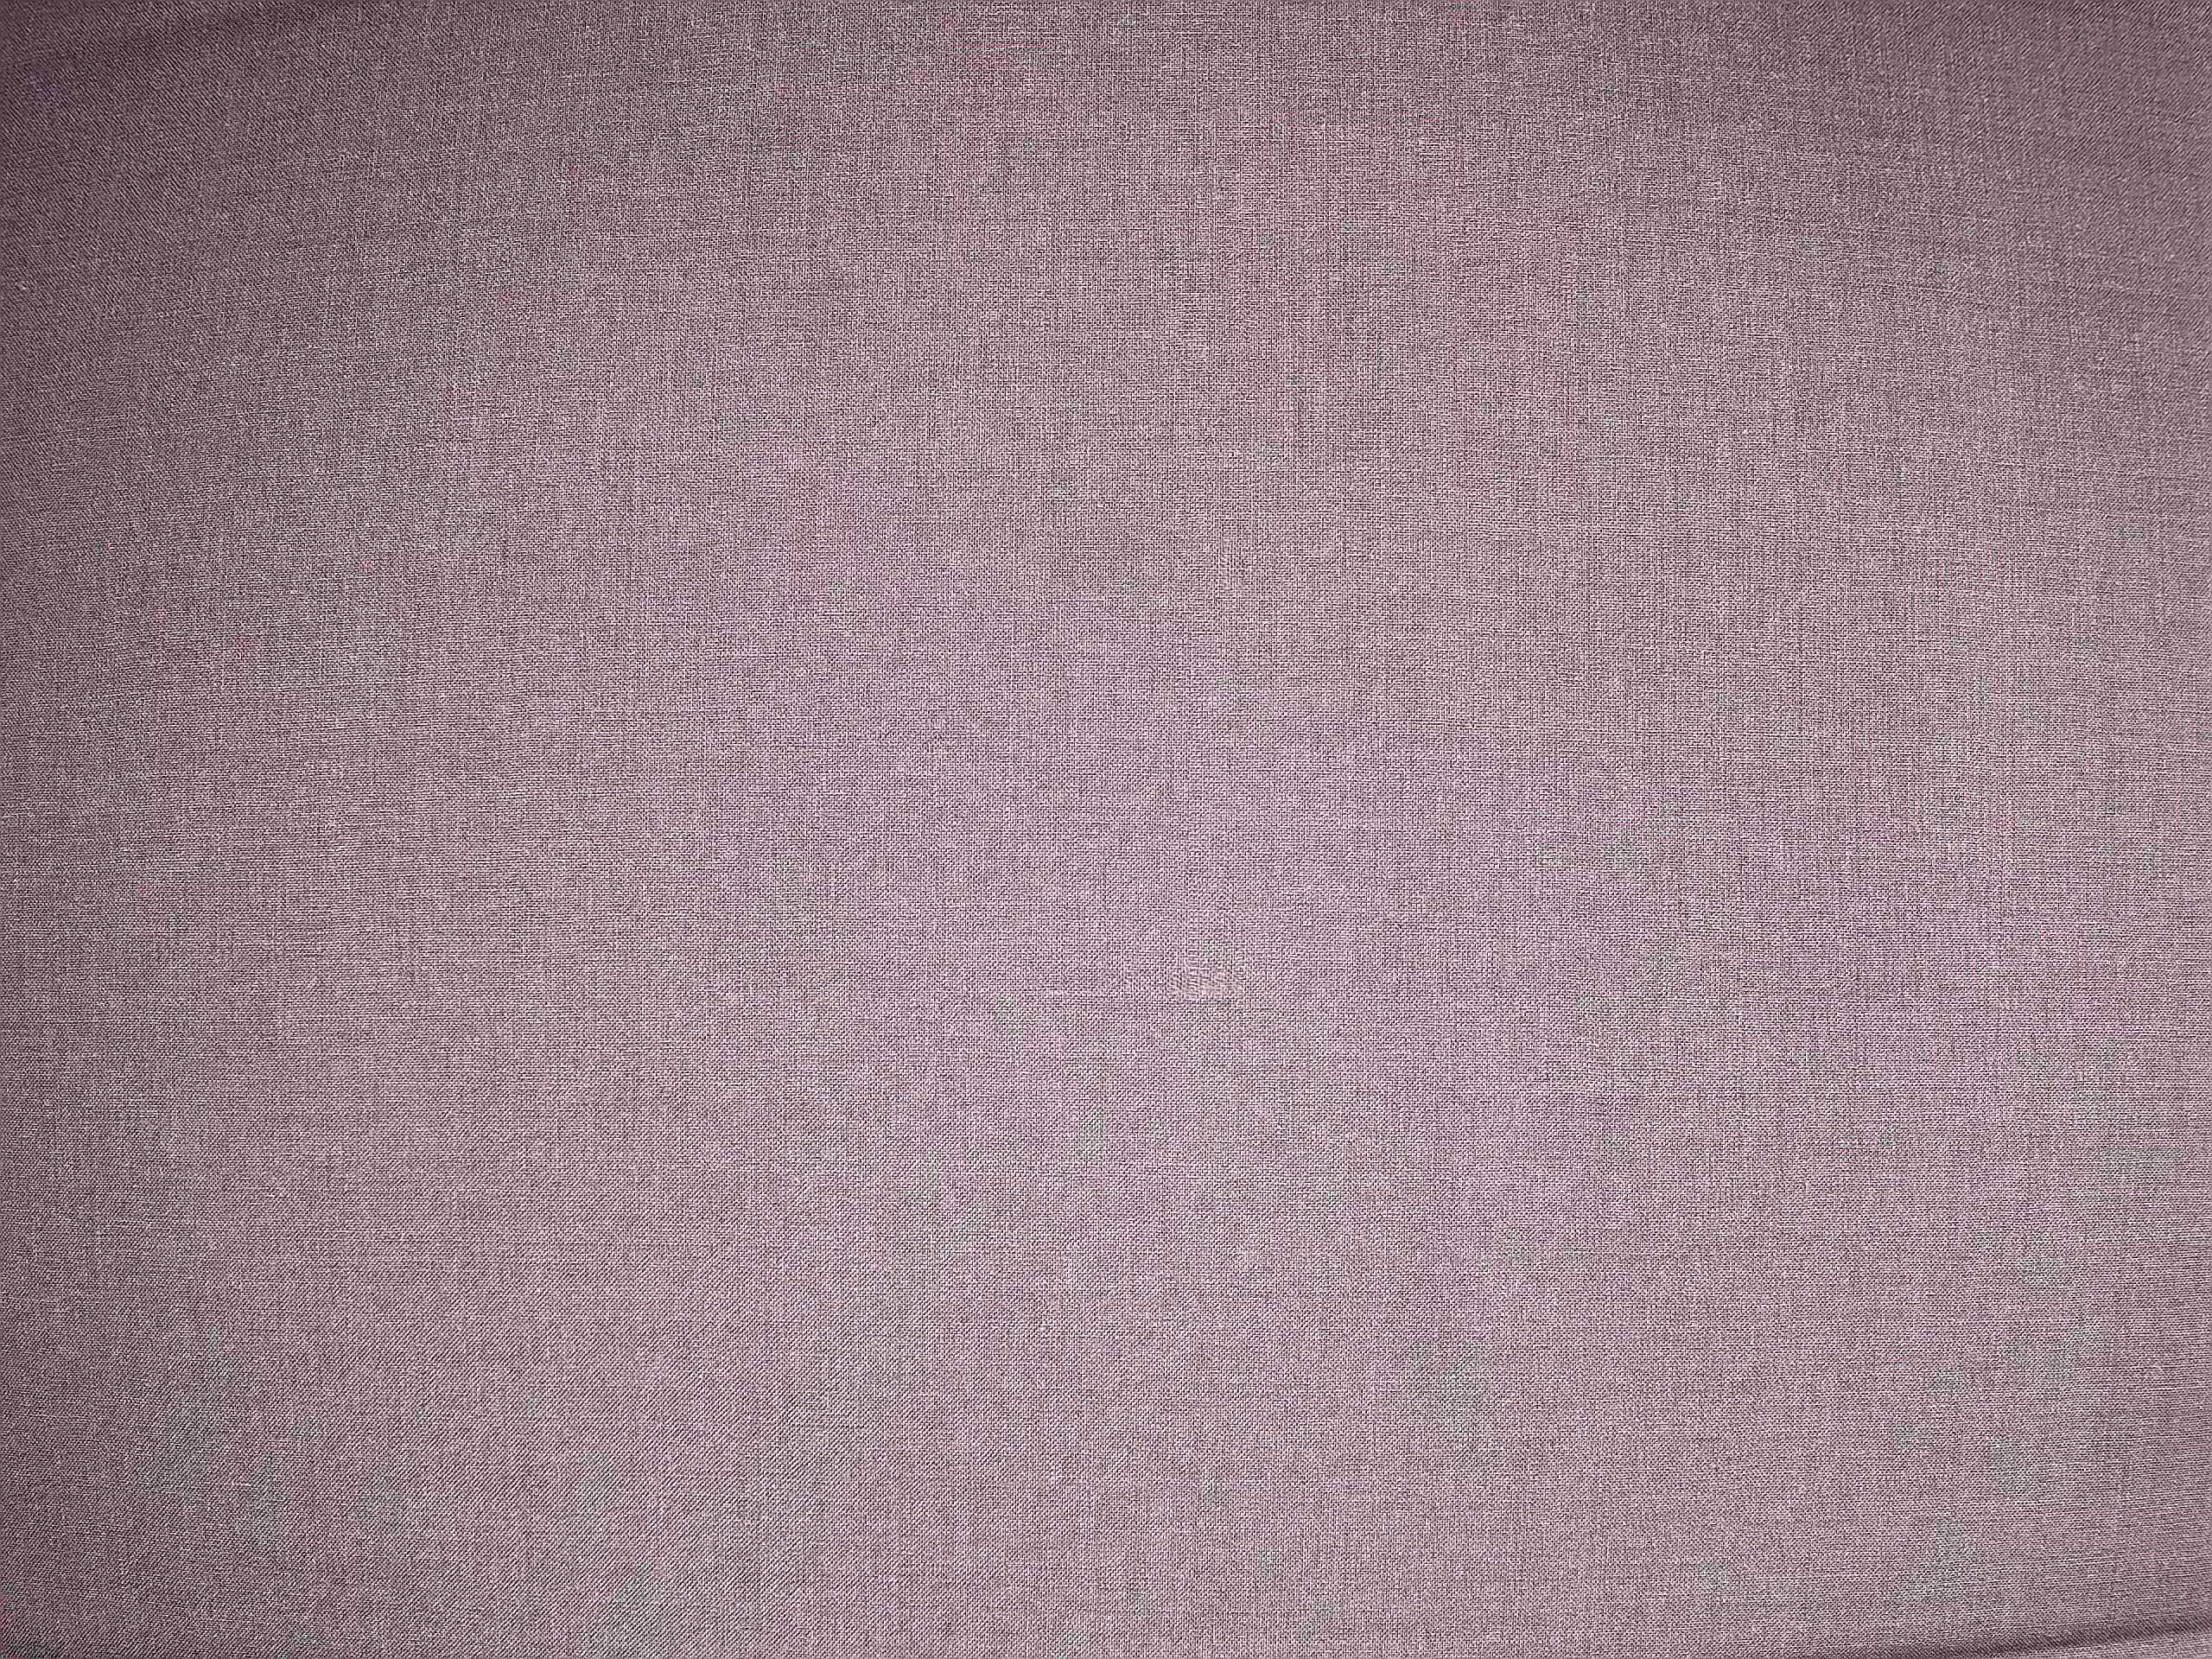thin-spinning: (1096, 896, 1318, 1068)
